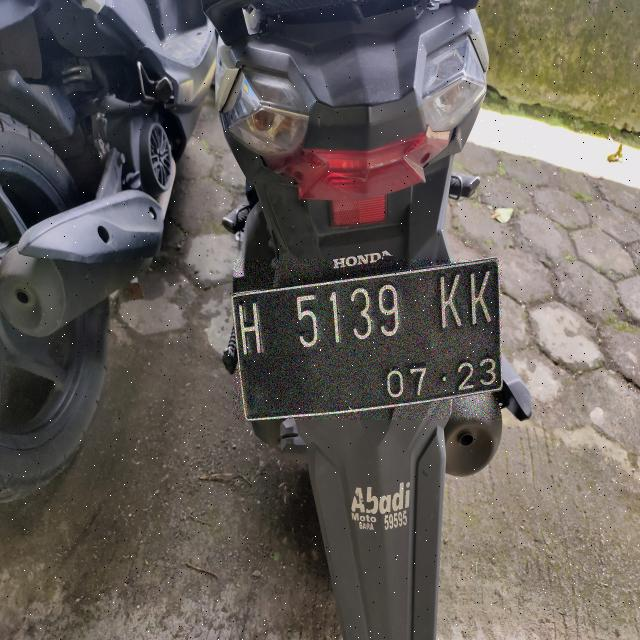plate: (233, 259, 502, 420)
